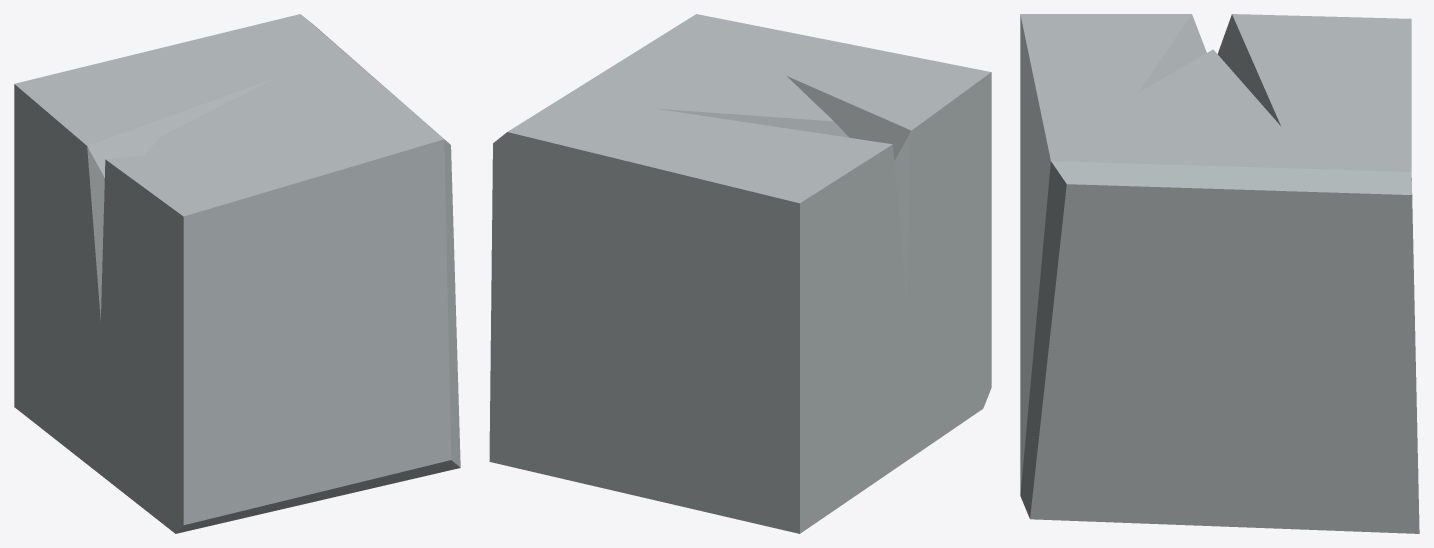
File: maya_export_StoneWall3.fbx
The picture shows the model from 3 angles, left to right: view 1: azimuth 30°, elevation 25°; view 2: azimuth 150°, elevation 25°; view 3: azimuth 270°, elevation 25°; orthographic projection. The views are drawn at different scales.
Visible parts, largest first — view 1: StoneWall3; view 2: StoneWall3; view 3: StoneWall3.
Part boxes in pixels (<box>): StoneWall3: <box>14,14,460,533</box>; StoneWall3: <box>489,14,991,533</box>; StoneWall3: <box>1020,14,1419,533</box>.
Bounding box in the file's own units: 10.14 × 10.14 × 10.34.
Materials: 1 (1 with a texture image).
